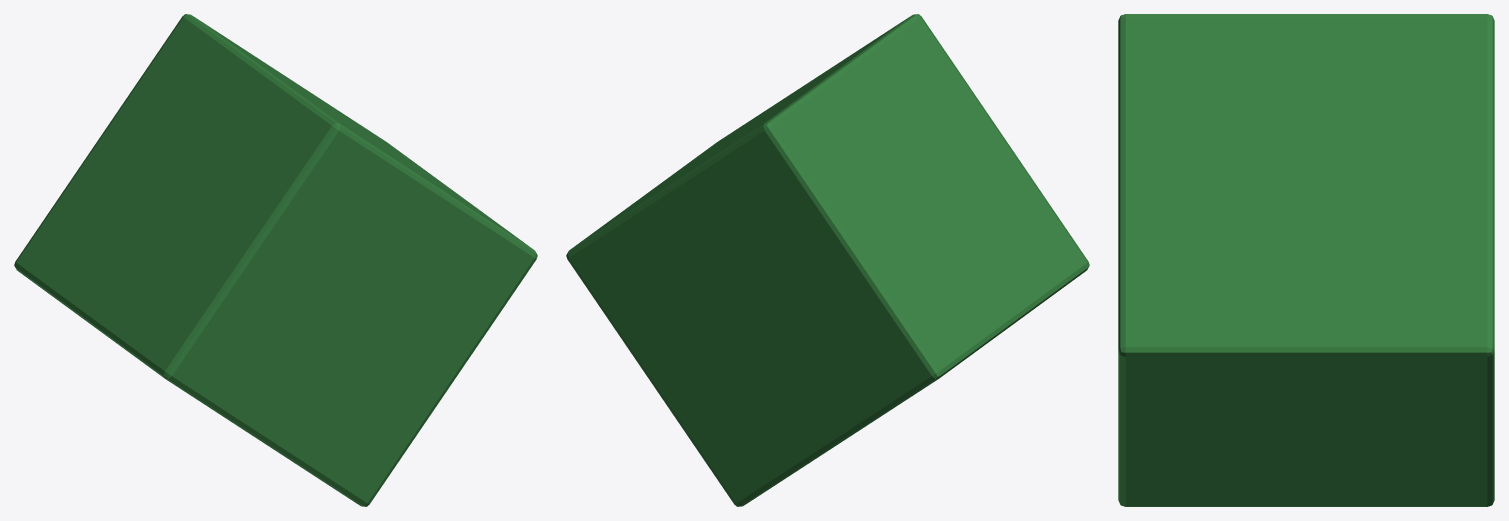
File: cube_checker_green.glb
3 renders of one model, left to right at view 1: azimuth 30°, elevation 25°; view 2: azimuth 150°, elevation 25°; view 3: azimuth 270°, elevation 25°, orthographic. The views are drawn at different scales.
Parts seen in each view (by area): view 1: cube_checker_green; view 2: cube_checker_green; view 3: cube_checker_green.
Boxes of the visible parts, x1,y1,x2,y2 form: cube_checker_green: (14, 14, 537, 506); cube_checker_green: (566, 14, 1089, 506); cube_checker_green: (1118, 14, 1494, 506).
Bounding box in the file's own units: 0.5574 × 0.5574 × 0.4.
